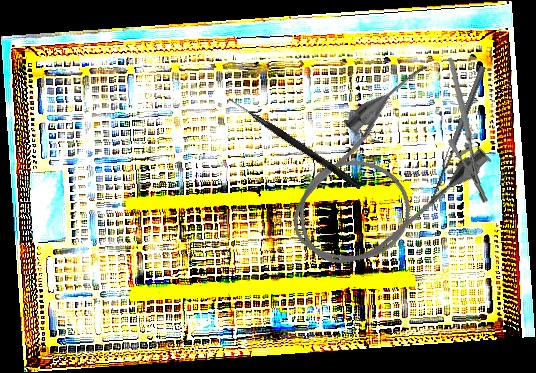Cannula: (259, 54, 505, 295)
Hook Surgical: (225, 96, 364, 190)
Needle Holder: (433, 56, 504, 205)
Spatula Surgical: (426, 65, 492, 212)
